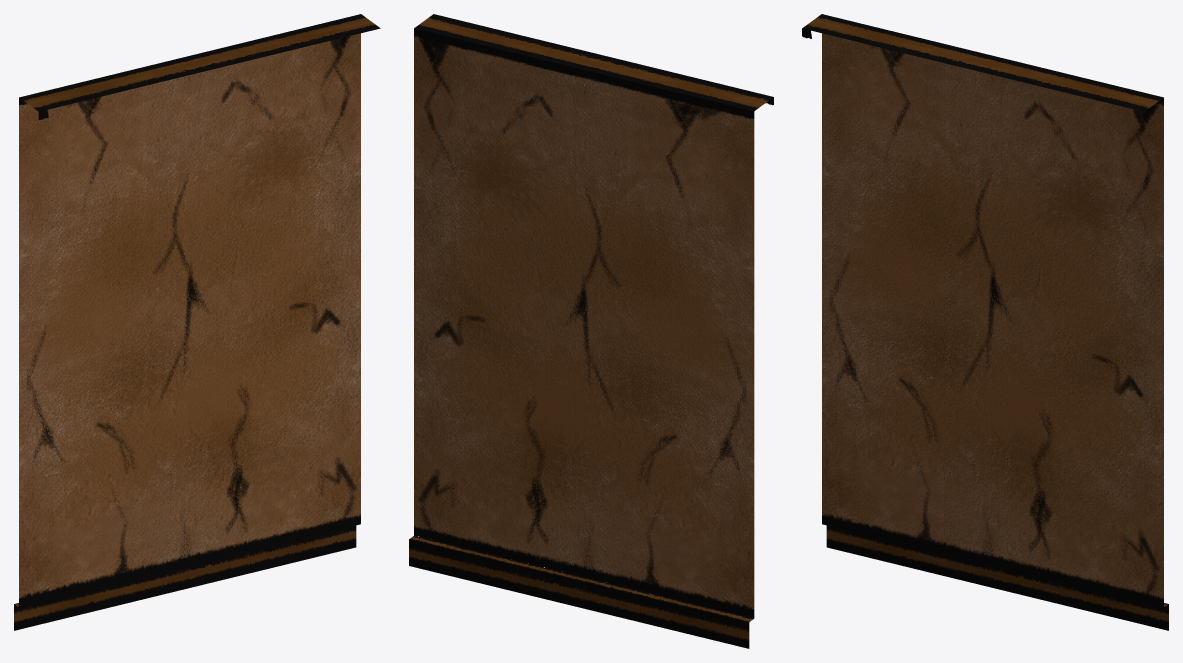
File: SimpleWall.fbx
3 views of the same model, side by side, from view 1: azimuth 30°, elevation 25°; view 2: azimuth 150°, elevation 25°; view 3: azimuth 330°, elevation 25° (orthographic).
Parts seen in each view (by area): view 1: SimpleWall.004; view 2: SimpleWall.004; view 3: SimpleWall.004.
Part boxes in pixels (x1=…): SimpleWall.004: x1=14, y1=14, x2=380, y2=630; SimpleWall.004: x1=409, y1=14, x2=773, y2=648; SimpleWall.004: x1=802, y1=14, x2=1168, y2=630.
Size of the model in its own units: 200 by 300 by 25.
